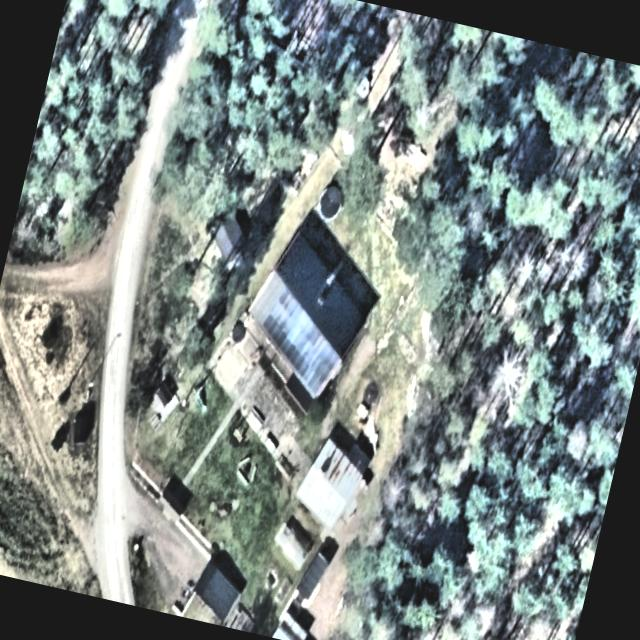roof_pv: (245, 286, 352, 404)
